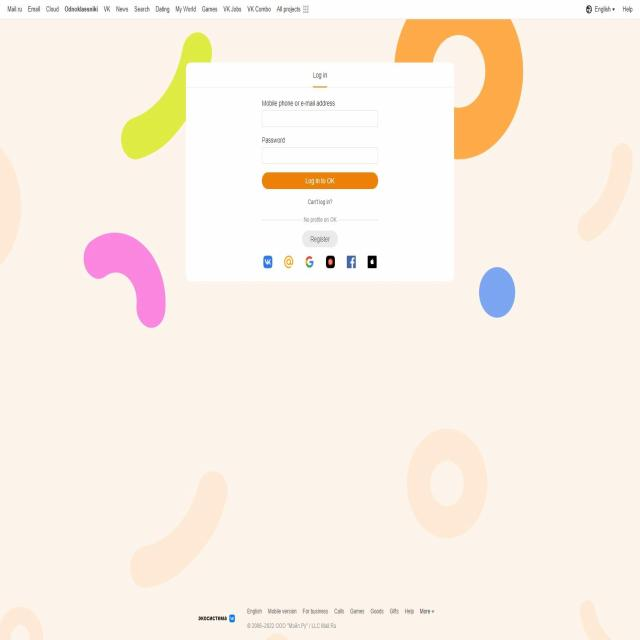button: (262, 170, 378, 190), (302, 228, 338, 250)
select: (584, 2, 616, 17)
